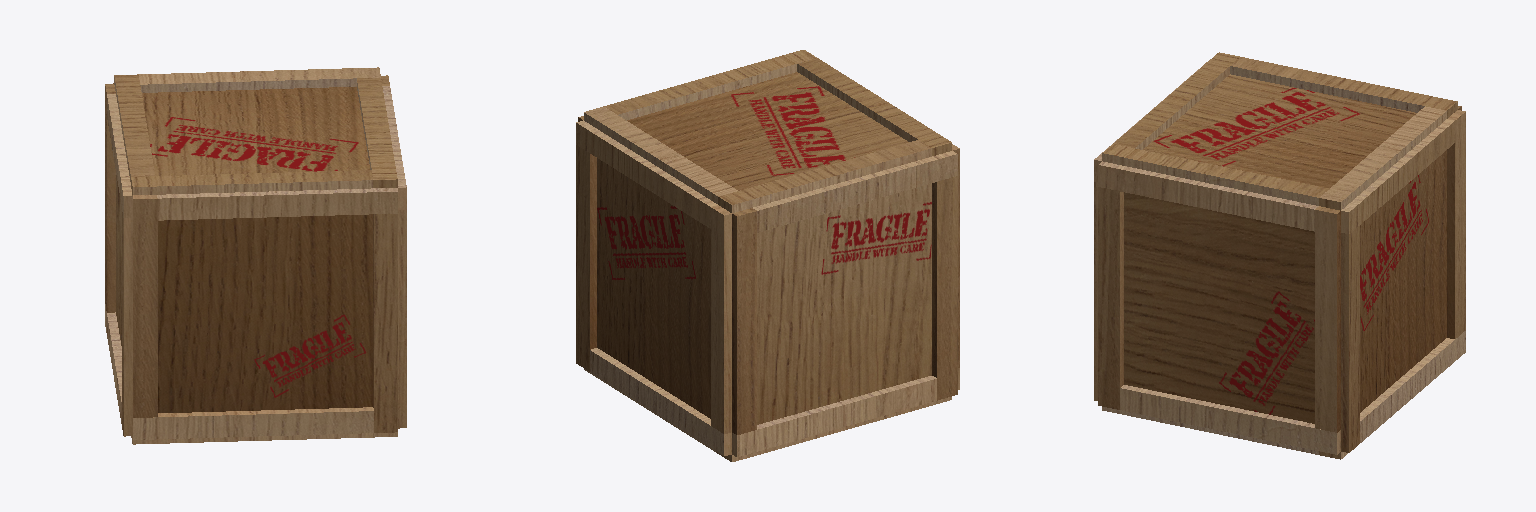
3 renders of one model, left to right at view 1: azimuth 30°, elevation 25°; view 2: azimuth 150°, elevation 25°; view 3: azimuth 270°, elevation 25°, orthographic.
Visible parts, largest first — view 1: Caixa.001_Cube.002; view 2: Caixa.001_Cube.002; view 3: Caixa.001_Cube.002.
Part boxes in pixels (bbox=[...]): Caixa.001_Cube.002: bbox=[105, 67, 406, 444]; Caixa.001_Cube.002: bbox=[576, 50, 959, 461]; Caixa.001_Cube.002: bbox=[1094, 52, 1465, 459].
Bounding box in the file's own units: 1.22 × 0.9329 × 1.22.
Materials: 1 (1 with a texture image).